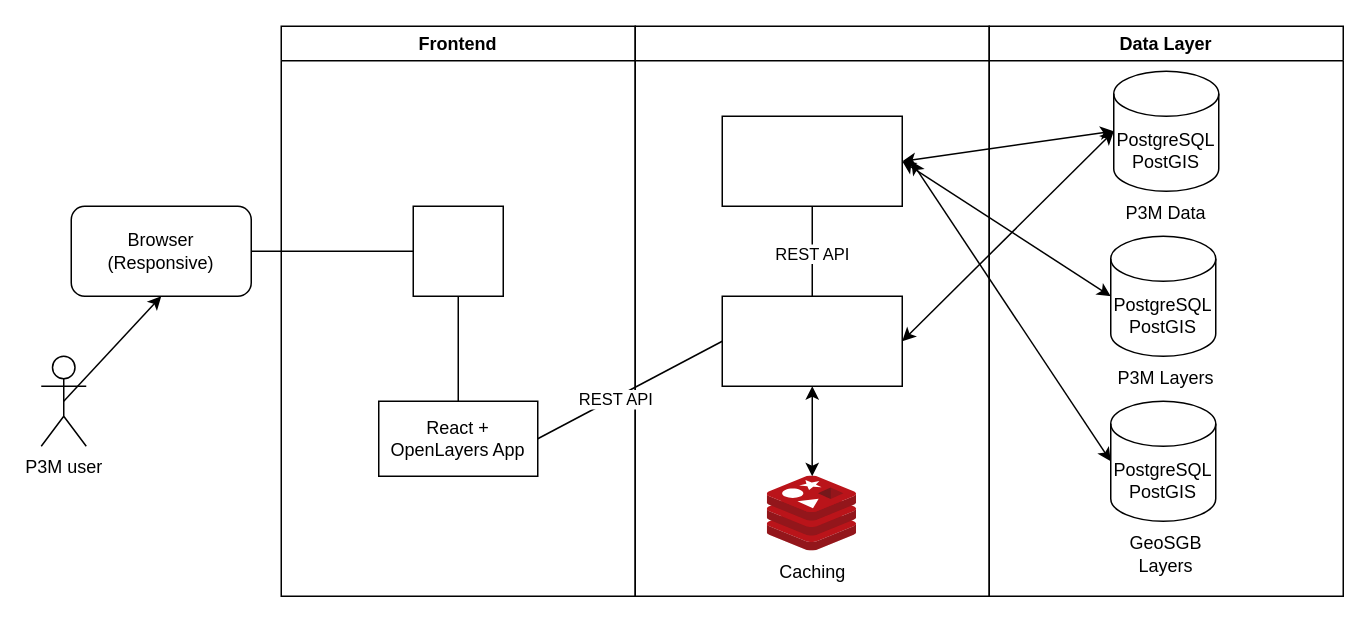
Image size: 1370x623. Some labels were removed from this diagram. Here are the shapes that lost their labels. From the top down, the box of each, then its label:
(721, 115, 902, 206): GeoNode SDI (GeoSGB)
(412, 205, 503, 296): Reverse Proxy
(634, 25, 989, 596): Backend
(721, 295, 902, 386): Django + DRF
